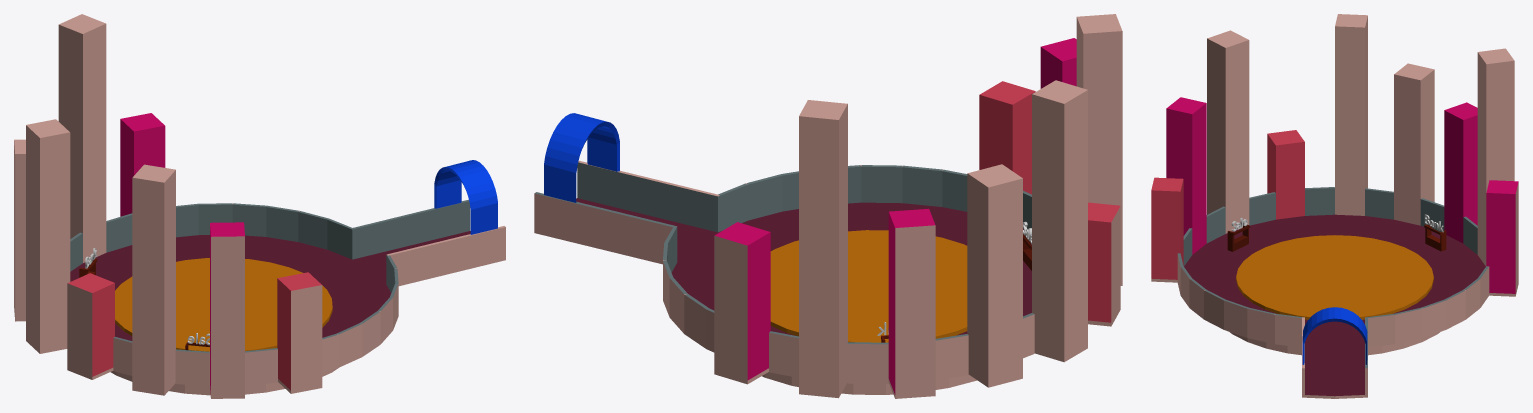
Rendered from Hub.fbx.
3 renders of one model, left to right at view 1: azimuth 30°, elevation 25°; view 2: azimuth 150°, elevation 25°; view 3: azimuth 270°, elevation 25°, orthographic. The views are drawn at different scales.
Parts seen in each view (by area): view 1: MainTown; view 2: MainTown; view 3: MainTown, SaleStall, BankStall.
Boxes of the visible parts, x1,y1,x2,y2 form: MainTown: (14,14,505,398); MainTown: (534,14,1122,398); MainTown: (1151,14,1518,398); SaleStall: (1227,224,1249,251); BankStall: (1424,223,1446,251).
Bounding box in the file's own units: 3126 × 1716 × 2504.
